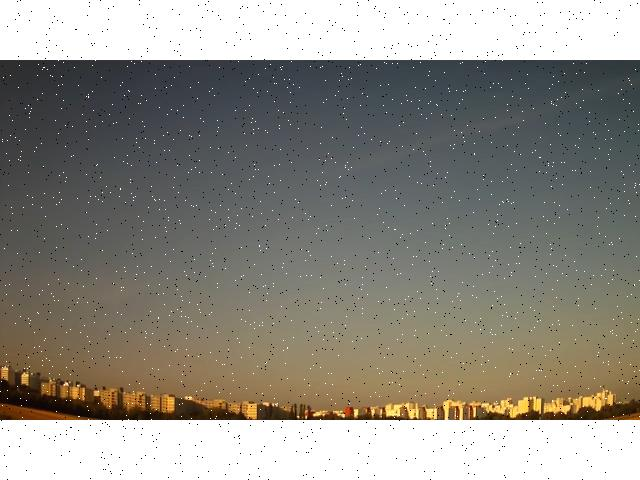Anti-Drone: (452, 290, 468, 299)
